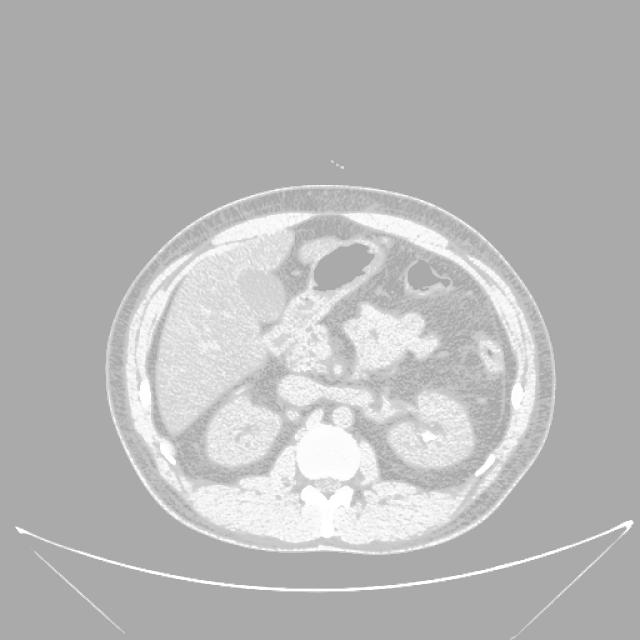STONE: (275, 207, 546, 492)
